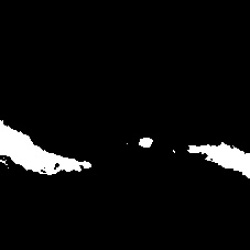crack: (1, 119, 92, 176), (187, 143, 249, 179), (139, 138, 154, 147)
